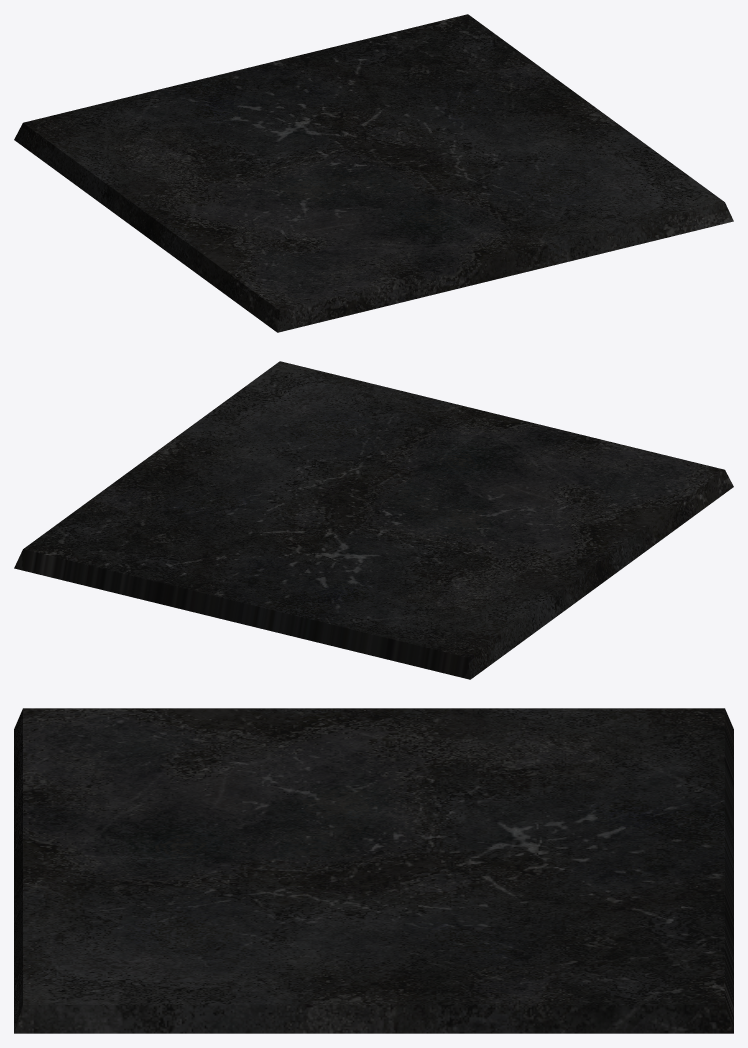
The model's file is highrise_1roof.glb.
3 views of the same model, one above another, from view 1: azimuth 30°, elevation 25°; view 2: azimuth 150°, elevation 25°; view 3: azimuth 270°, elevation 25° (orthographic). The views are drawn at different scales.
Parts seen in each view (by area): view 1: Highrise.1roof; view 2: Highrise.1roof; view 3: Highrise.1roof.
Boxes of the visible parts, left/top/right/bottom form: Highrise.1roof: left=14, top=14, right=733, bottom=332; Highrise.1roof: left=14, top=361, right=733, bottom=679; Highrise.1roof: left=14, top=708, right=733, bottom=1033.
Bounding box in the file's own units: 0.4 × 0.0152 × 0.4.
1 material, 1 textured.
